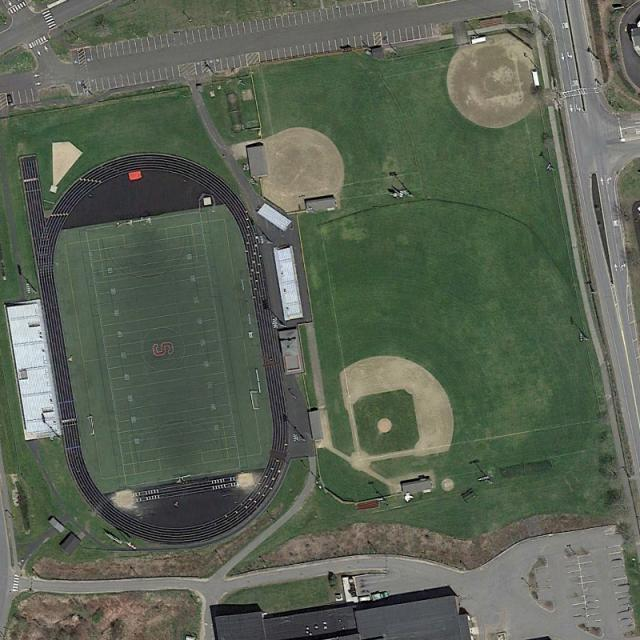vehicle: (6, 94, 14, 107)
